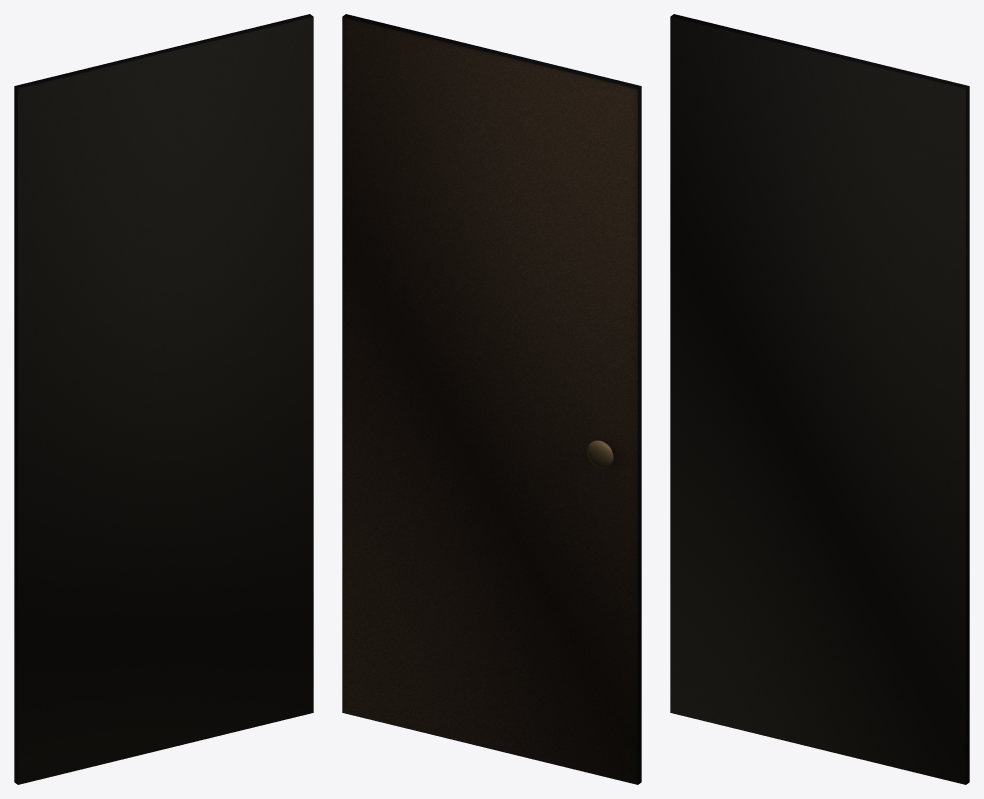
Rendered from door.obj.
3 views of the same model, side by side, from view 1: azimuth 30°, elevation 25°; view 2: azimuth 150°, elevation 25°; view 3: azimuth 330°, elevation 25° (orthographic).
Visible parts, largest first — view 1: Door_Plane.002; view 2: Door_Plane.002; view 3: Door_Plane.002.
Part boxes in pixels (x1,y1,x2,y2): Door_Plane.002: [14, 14, 313, 784]; Door_Plane.002: [342, 14, 641, 784]; Door_Plane.002: [670, 14, 969, 784].
Bounding box in the file's own units: 1.13 × 2.54 × 0.0933.
Materials: 2 (2 with a texture image).
